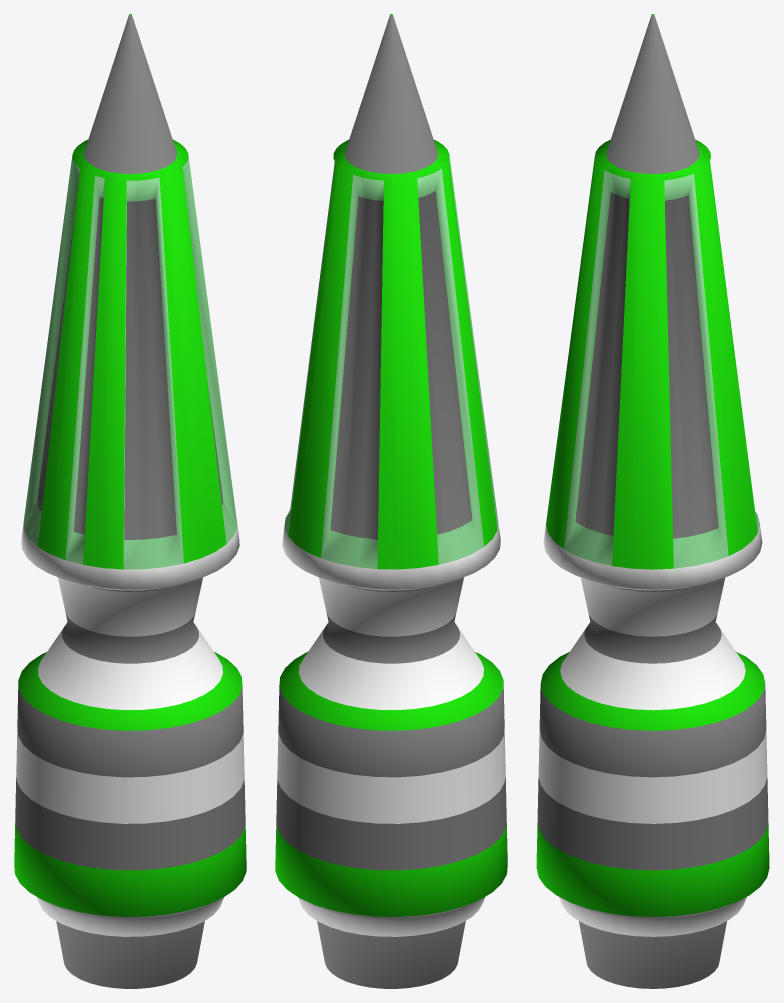
Rendered from HomingMissle.fbx.
The picture shows the model from 3 angles, left to right: view 1: azimuth 30°, elevation 25°; view 2: azimuth 150°, elevation 25°; view 3: azimuth 270°, elevation 25°; orthographic projection.
Parts seen in each view (by area): view 1: Sphere; view 2: Sphere; view 3: Sphere.
Boxes of the visible parts, left/top/right/bottom form: Sphere: left=14, top=14, right=246, bottom=988; Sphere: left=275, top=14, right=507, bottom=988; Sphere: left=536, top=14, right=769, bottom=988.
Bounding box in the file's own units: 67.19 × 301 × 67.19.
